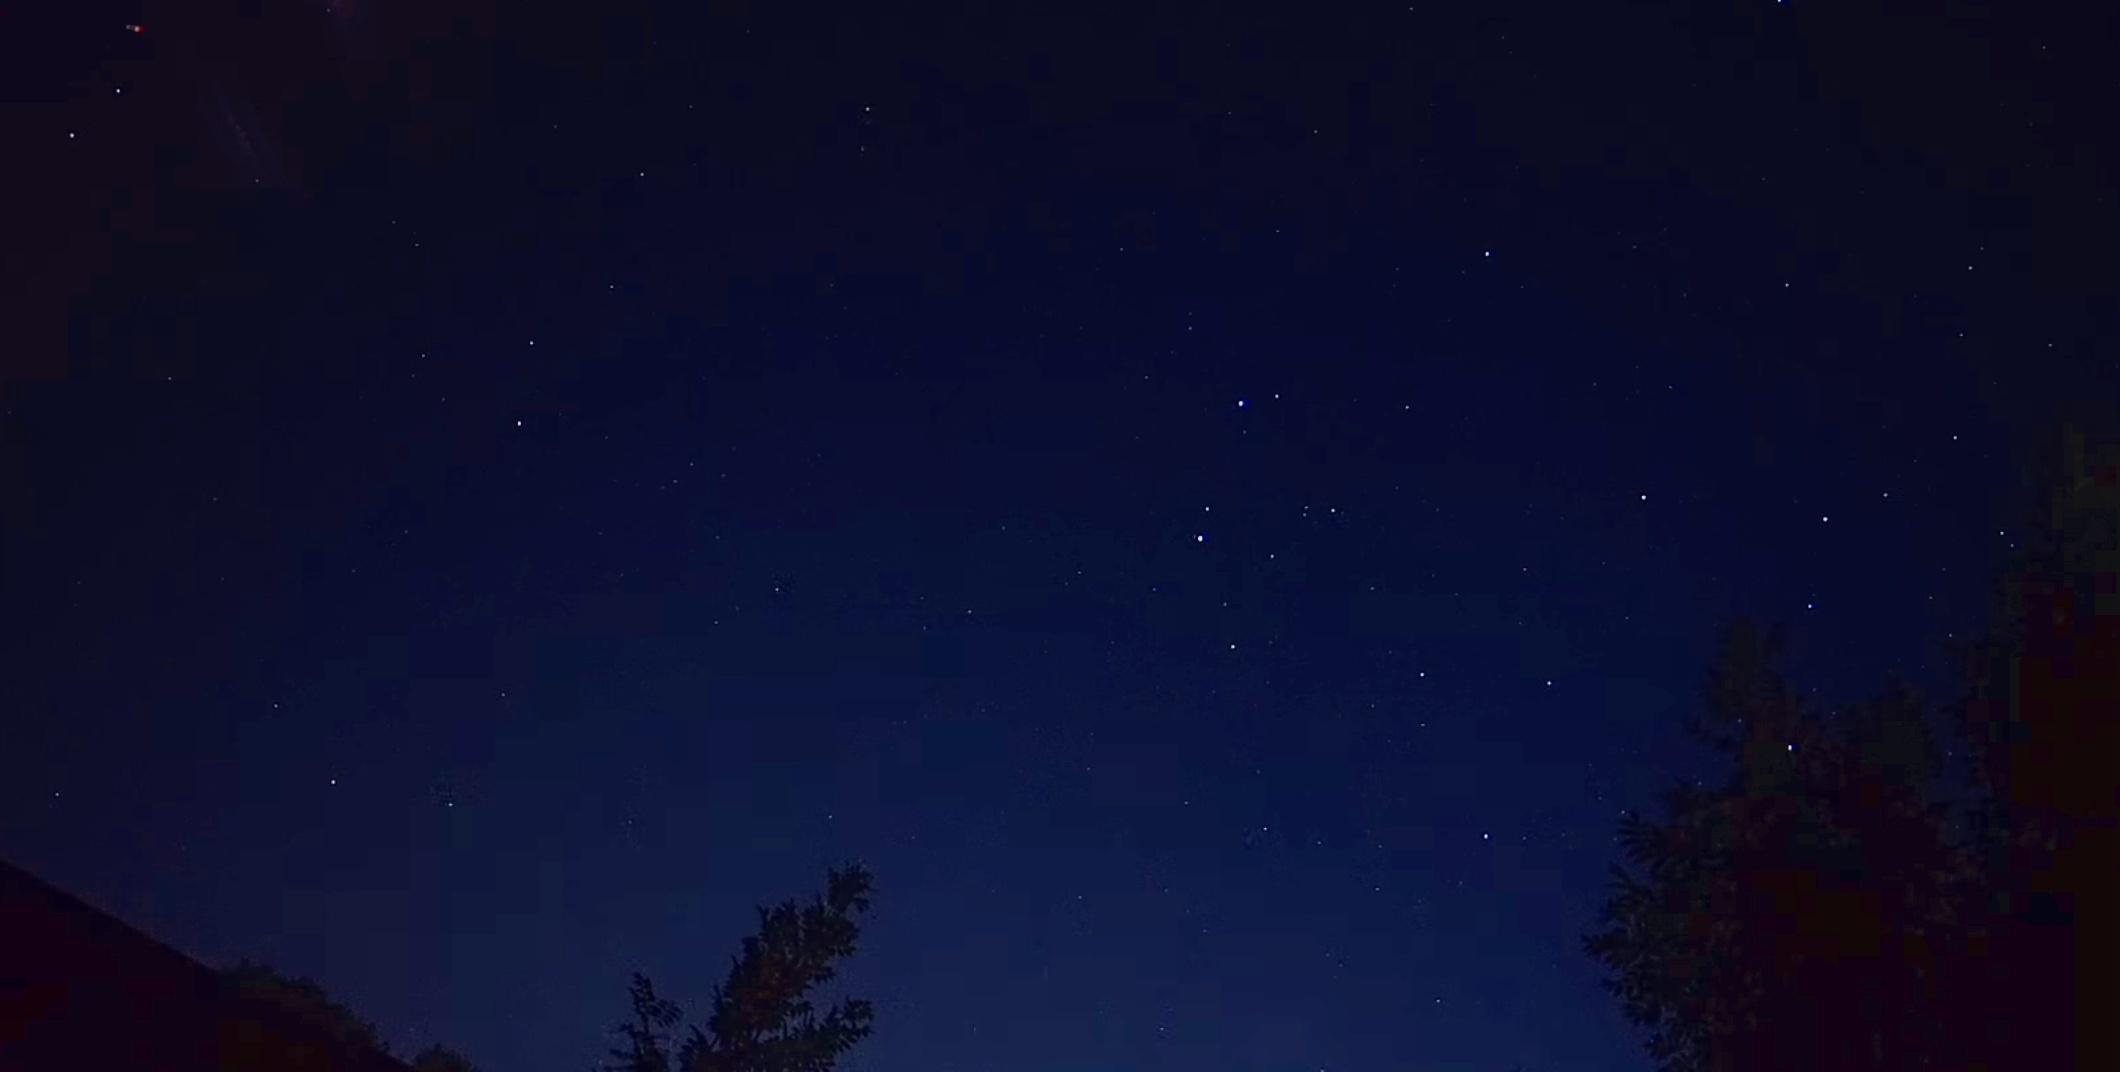Plane: (97, 11, 172, 44)
